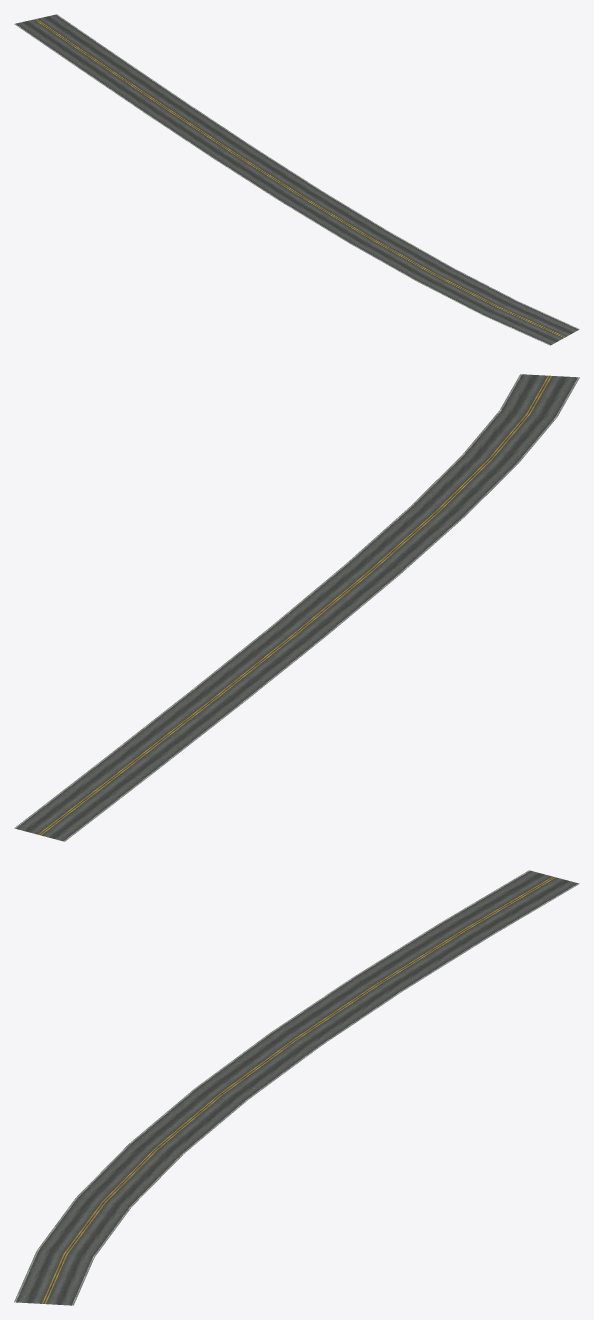
Rendered from cuntwroad64.obj.
3 renders of one model, top to bottom at view 1: azimuth 30°, elevation 25°; view 2: azimuth 150°, elevation 25°; view 3: azimuth 330°, elevation 25°, orthographic. The views are drawn at different scales.
Parts seen in each view (by area): view 1: cuntwroad64; view 2: cuntwroad64; view 3: cuntwroad64.
Boxes of the visible parts, x1,y1,x2,y2 form: cuntwroad64: (14, 14, 579, 345); cuntwroad64: (14, 374, 579, 841); cuntwroad64: (14, 870, 579, 1305).
Bounding box in the file's own units: 29.62 × 5.68 × 235.
Materials: 1 (1 with a texture image).
